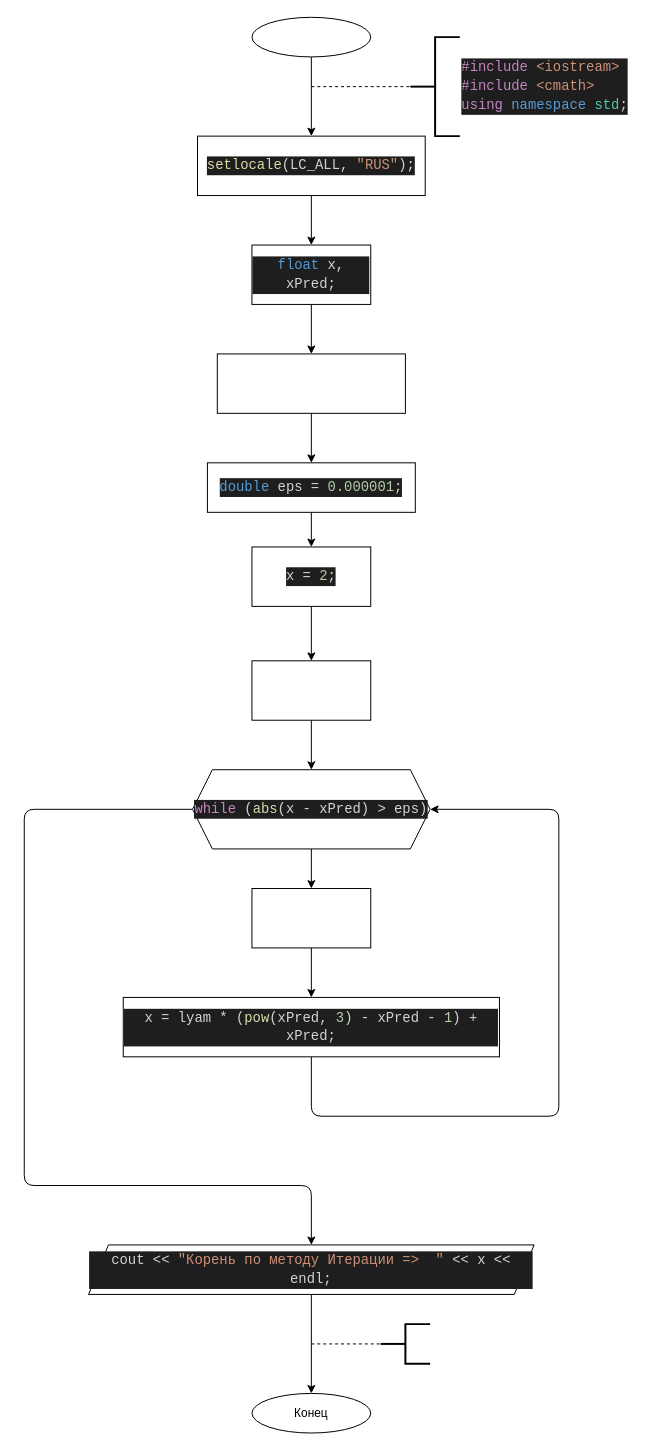
The diagram is 645 pixels wide and 1450 high, and some of its shapes have lost their labels. The centre of each missing label's shape, as x and y in pixels:
"double lyam = - 0.05 ;" belongs at (310,383).
"return 0 ;" belongs at (405,1343).
"xPred = 0 ;" belongs at (311,690).
"xPred = x;" belongs at (311,918).
"Начало" belongs at (311,36).
